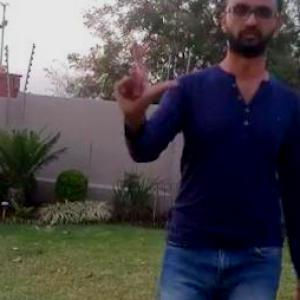land_hand: (102, 33, 180, 116)
